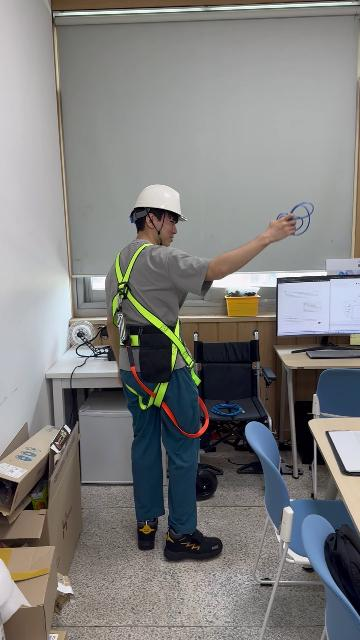helmet_worn: (129, 183, 187, 221)
shoe_worn: (164, 526, 222, 561), (137, 517, 158, 550)
vest_worn: (111, 249, 211, 429)
